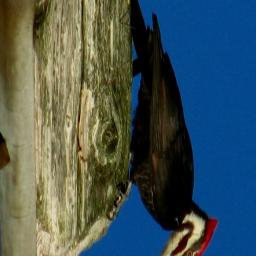Woodpecker: (112, 0, 224, 256)
